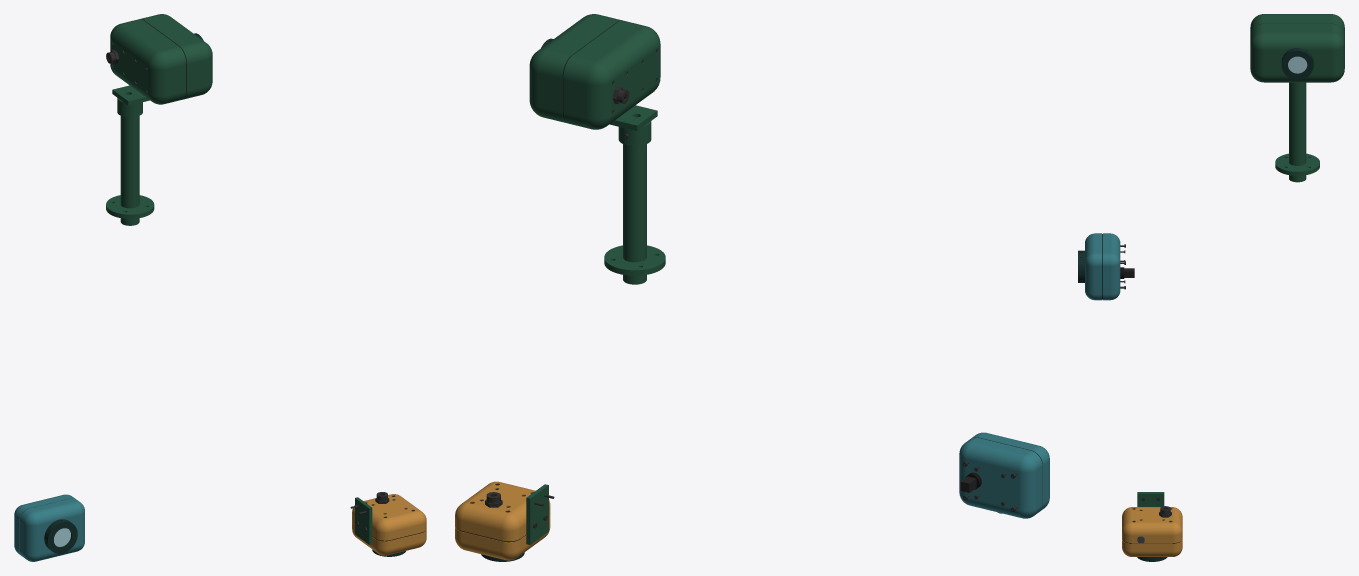
The model's file is group_sensing.glb.
3 renders of one model, left to right at view 1: azimuth 30°, elevation 25°; view 2: azimuth 150°, elevation 25°; view 3: azimuth 270°, elevation 25°, orthographic. The views are drawn at different scales.
Parts seen in each view (by area): view 1: camera01_housing_rear, camera03_housing_front, camera01_housing_front, camera02_housing_rear, camera_mast, camera02_housing_front, mast_head_clamp, mast_flange, camera03_bezel, camera02_bracket, camera03_housing_rear; view 2: camera01_housing_rear, camera03_housing_rear, camera01_housing_front, camera02_housing_rear, camera_mast, camera02_housing_front, mast_head_clamp, mast_flange, camera02_bracket, camera03_housing_front; view 3: camera01_housing_front, camera02_housing_rear, camera_mast, camera03_housing_front, camera03_housing_rear, camera01_housing_rear, camera02_housing_front, mast_flange, camera01_bezel, camera02_bracket.
Boxes of the visible parts, x1,y1,x2,y2 form: camera01_housing_rear: (110,19,186,104); camera03_housing_front: (20,498,84,561); camera01_housing_front: (141,14,212,99); camera02_housing_rear: (352,494,426,540); camera_mast: (120,116,139,225); camera02_housing_front: (352,521,426,555); mast_head_clamp: (112,85,149,117); mast_flange: (106,195,154,218); camera03_bezel: (44,519,77,553); camera02_bracket: (355,497,372,544); camera03_housing_rear: (14,494,75,555); camera01_housing_rear: (563,20,660,129); camera03_housing_rear: (959,437,1042,518); camera01_housing_front: (529,14,621,122); camera02_housing_rear: (455,481,550,541); camera_mast: (623,144,646,284); camera02_housing_front: (455,516,550,560); mast_head_clamp: (609,105,657,146); mast_flange: (604,245,665,275); camera02_bracket: (526,484,548,544); camera03_housing_front: (971,432,1049,511); camera01_housing_front: (1250,24,1344,82); camera02_housing_rear: (1122,507,1182,543); camera_mast: (1289,82,1306,182); camera03_housing_front: (1085,233,1102,300); camera03_housing_rear: (1103,233,1120,300); camera01_housing_rear: (1250,14,1344,35); camera02_housing_front: (1122,540,1182,556); mast_flange: (1275,153,1319,175); camera01_bezel: (1281,48,1313,79); camera02_bracket: (1137,492,1164,506).
Bounding box in the file's own units: 608 × 682 × 356.
